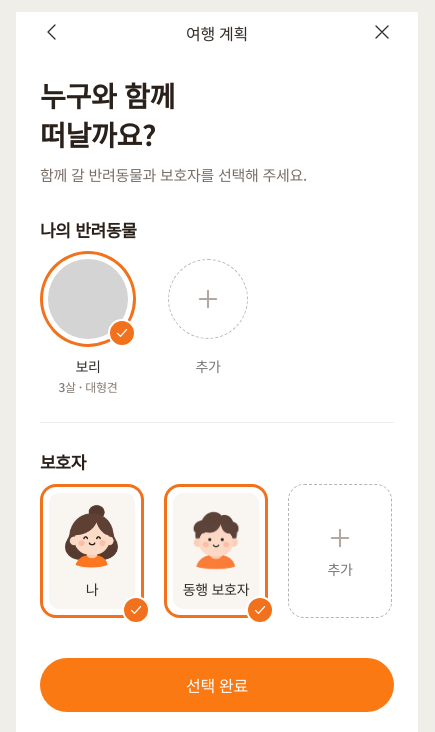
Test: M03 여행 계획 › 반려동물이나 보호자가 없으면 선택 완료를 막는다
Check: the button "선택 완료" is enabled, box [40,658,394,712]
Click the button "보리 3살 · 대형견".
click(88, 323)  # box [40,251,136,396]
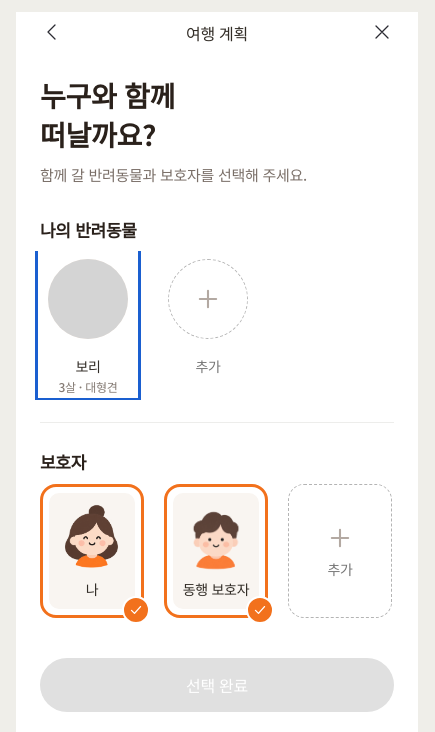
Check: the button "선택 완료" is disabled, box [40,658,394,712]
Click the button "보리 3살 · 대형견".
click(88, 323)  # box [40,251,136,396]
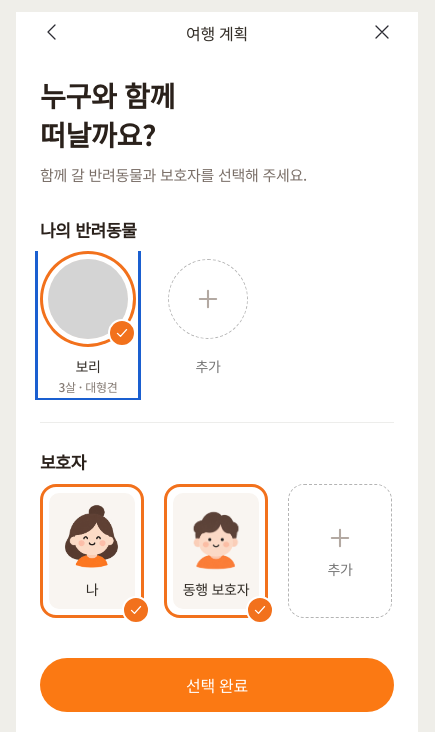
Click the button "나".
click(92, 551)  # box [40,484,144,618]
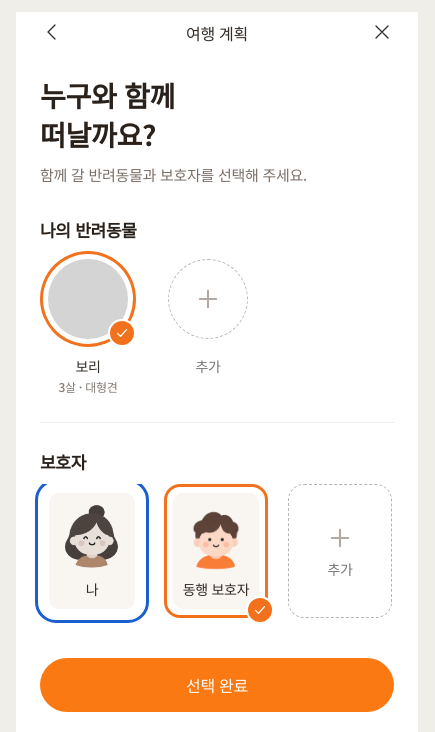
Click the button "동행 보호자".
click(216, 551)  # box [164,484,268,618]
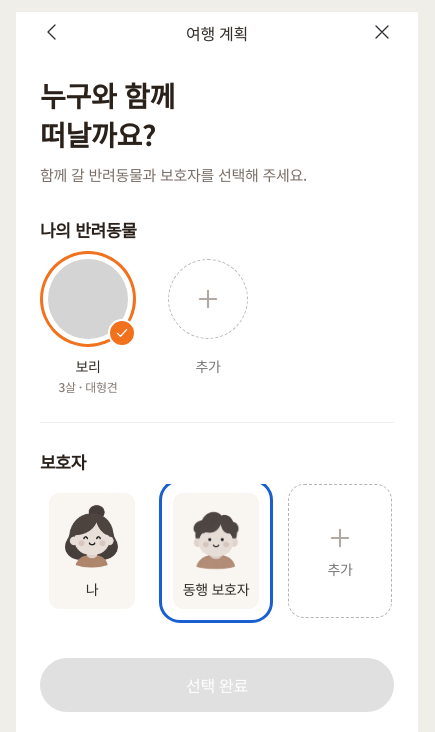
Check: the button "선택 완료" is disabled, box [40,658,394,712]
